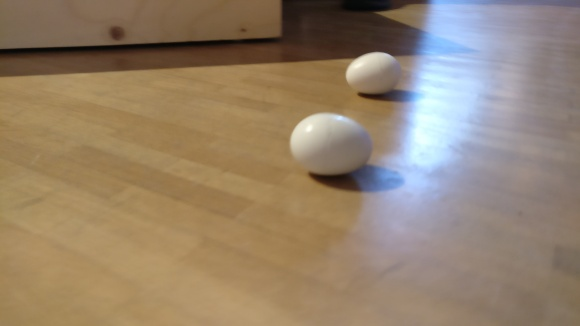egg: (288, 110, 373, 176), (345, 51, 403, 98)
